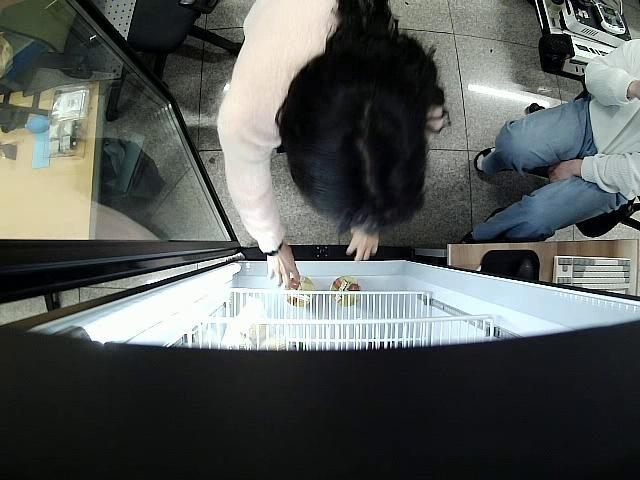04_chapagetti_S: (282, 275, 316, 308)
